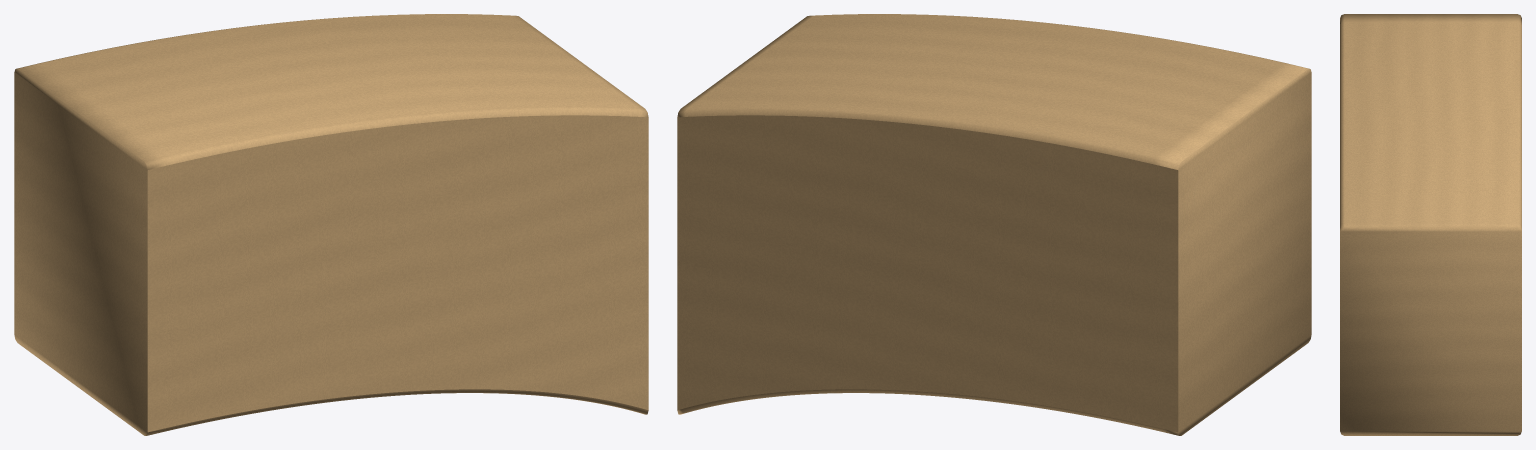
File: 5-curved-wood-arch-sector-3.fbx
3 views of the same model, side by side, from view 1: azimuth 30°, elevation 25°; view 2: azimuth 150°, elevation 25°; view 3: azimuth 270°, elevation 25° (orthographic). The views are drawn at different scales.
Visible parts, largest first — view 1: curved-wood-arch-sector-3; view 2: curved-wood-arch-sector-3; view 3: curved-wood-arch-sector-3.
Boxes of the visible parts, bbox=[...] form: curved-wood-arch-sector-3: bbox=[14, 14, 648, 435]; curved-wood-arch-sector-3: bbox=[677, 14, 1311, 435]; curved-wood-arch-sector-3: bbox=[1340, 14, 1521, 435].
Size of the model in its own units: 6500 by 4651 by 3000.
1 material, 1 textured.
